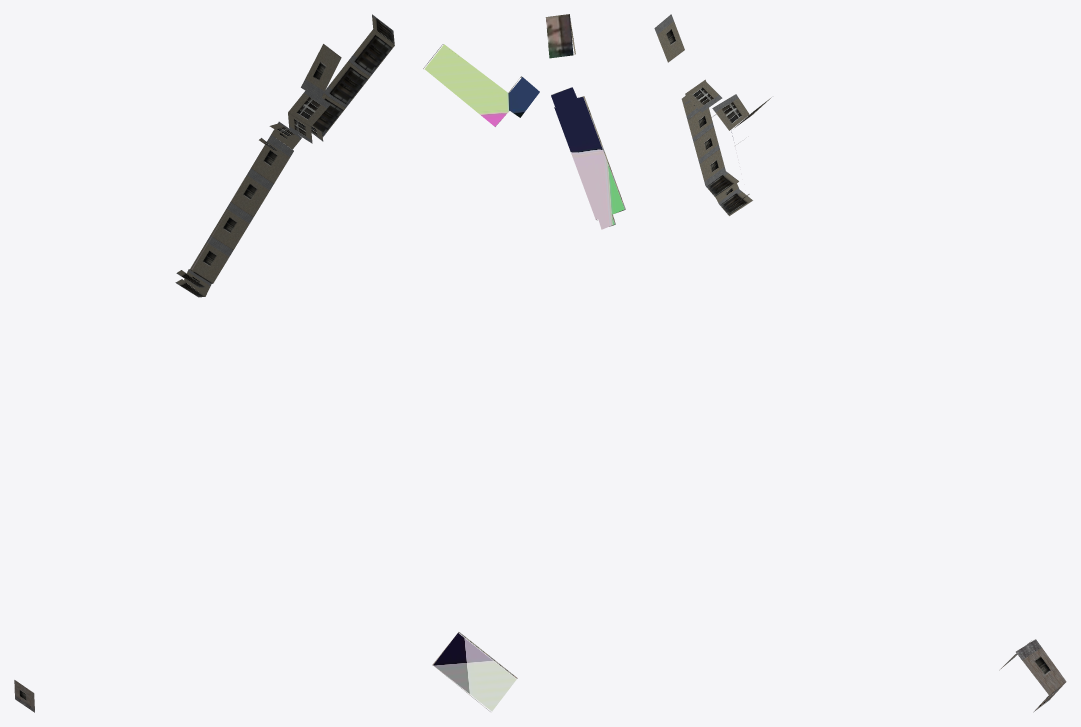
Rendered from tile_LOD4_r13_c6.glb.
3 views of the same model, side by side, from view 1: azimuth 30°, elevation 25°; view 2: azimuth 150°, elevation 25°; view 3: azimuth 270°, elevation 25° (orthographic). The views are drawn at different scales.
Size of the model in its own units: 41 by 119 by 60.5.
10 materials, 10 textured.
